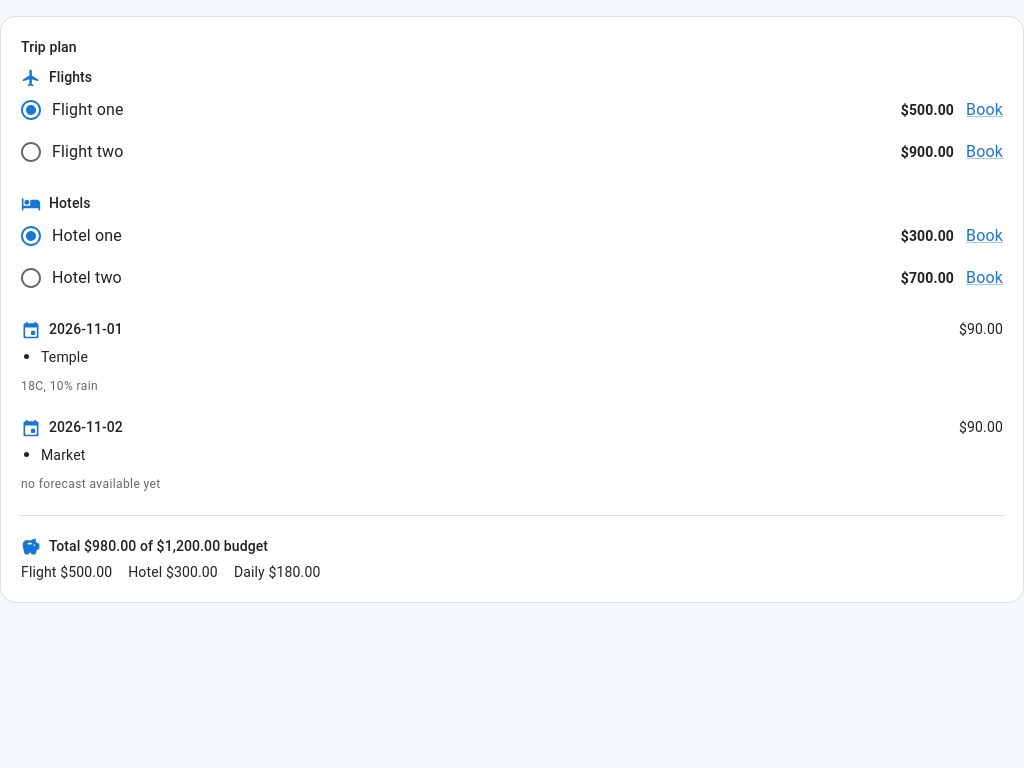
Test: PlanCard › warns when the live total goes over the budget
Click the radio button labelled "Hotel two" at (70, 278), box [19, 266, 122, 290]
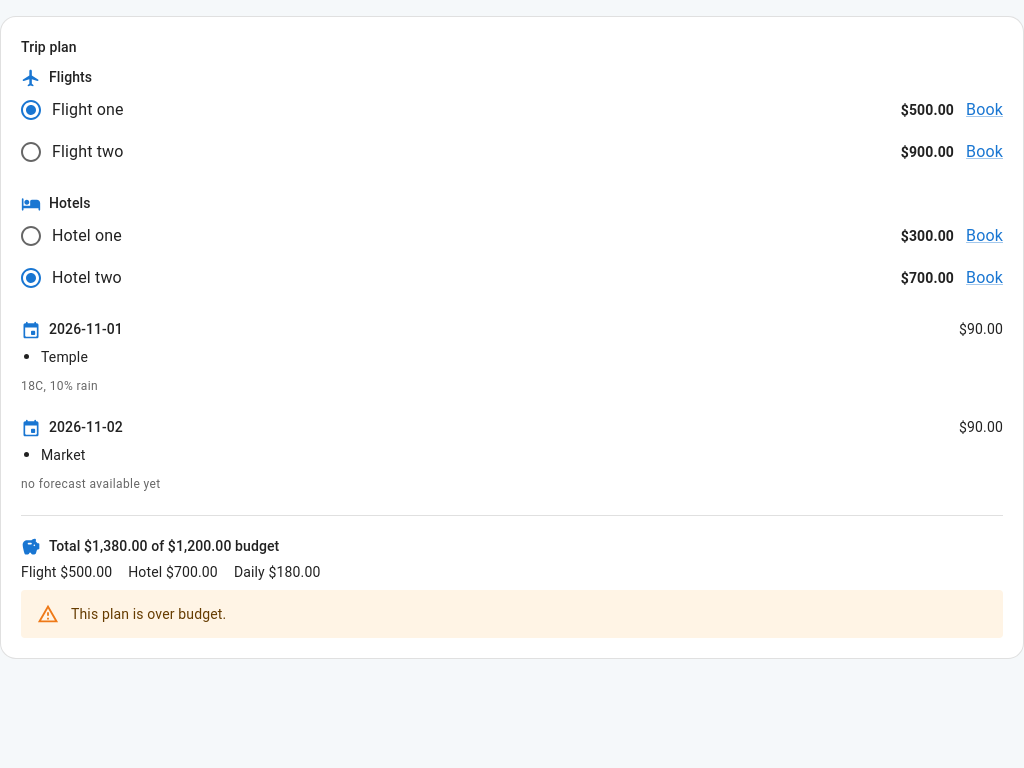
Expected: the message shows "over budget", [71, 606, 226, 622]
